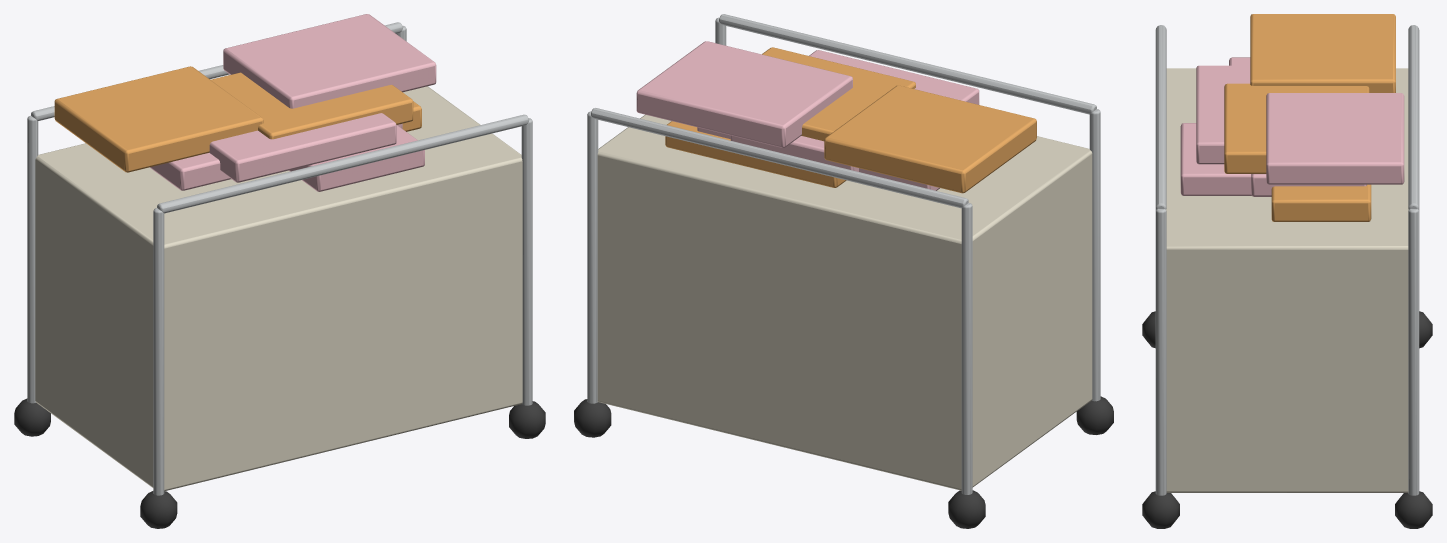
File: laundry_cart.glb
The picture shows the model from 3 angles, left to right: view 1: azimuth 30°, elevation 25°; view 2: azimuth 150°, elevation 25°; view 3: azimuth 270°, elevation 25°; orthographic projection.
Parts seen in each view (by area): view 1: LaundryCart; view 2: LaundryCart; view 3: LaundryCart.
Part boxes in pixels (x1,y1,x2,y2): LaundryCart: (14,14,545,528); LaundryCart: (574,14,1113,528); LaundryCart: (1142,14,1432,528).
Size of the model in its own units: 0.9324 by 0.771 by 0.5861.
